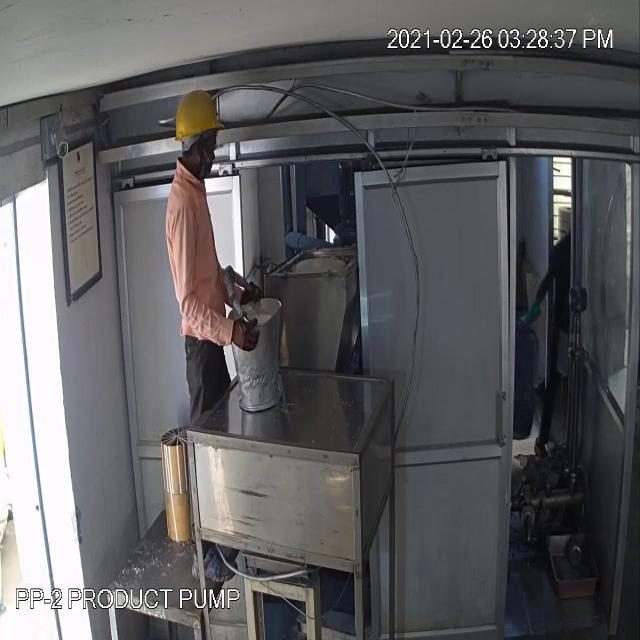helmet: (170, 86, 232, 151)
